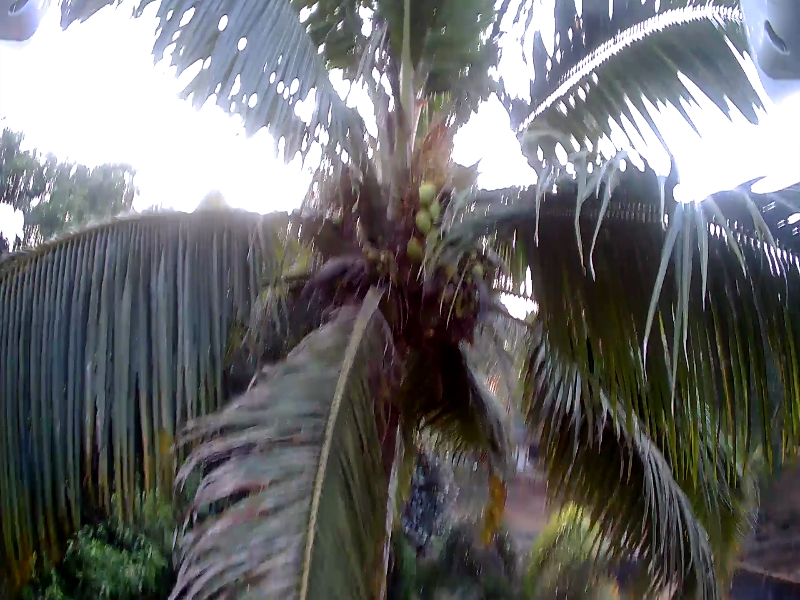coconut: (406, 239, 436, 260), (421, 196, 444, 223), (411, 179, 437, 202), (409, 207, 428, 232), (359, 241, 378, 264), (472, 266, 481, 278)
